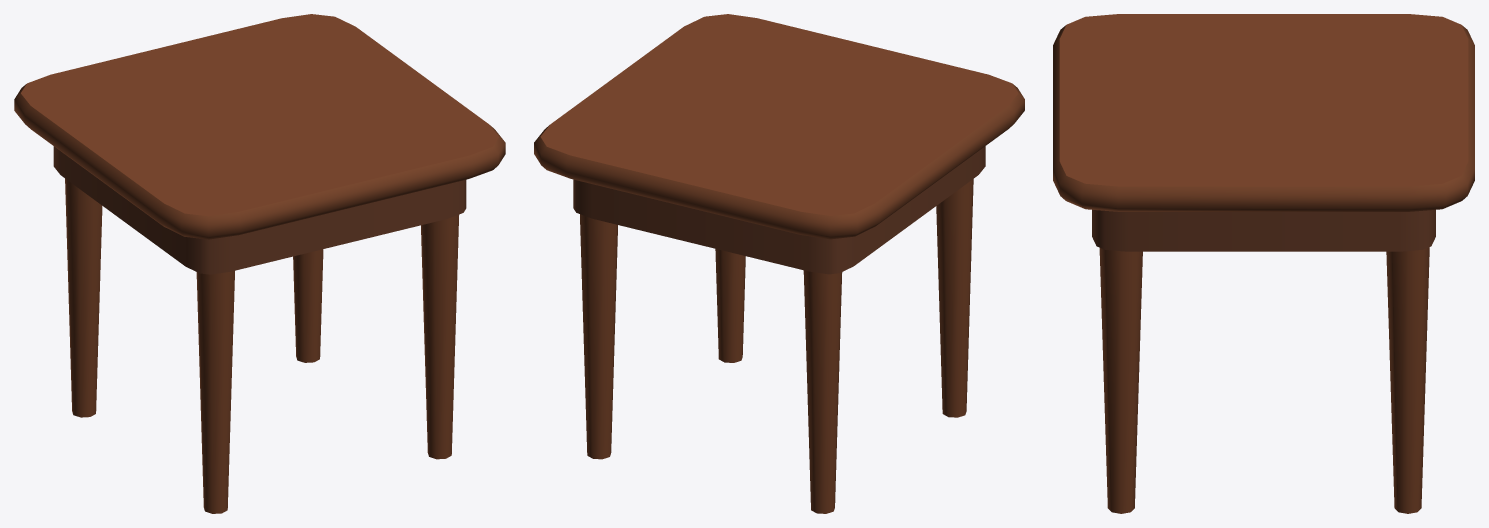
Rendered from table-1.glb.
The picture shows the model from 3 angles, left to right: view 1: azimuth 30°, elevation 25°; view 2: azimuth 150°, elevation 25°; view 3: azimuth 270°, elevation 25°; orthographic projection. The views are drawn at different scales.
Parts seen in each view (by area): view 1: table_1; view 2: table_1; view 3: table_1.
Boxes of the visible parts, <box> form: table_1: <box>14,14,505,513</box>; table_1: <box>534,14,1024,513</box>; table_1: <box>1053,14,1474,513</box>.
Bounding box in the file's own units: 1 × 0.9087 × 1.
